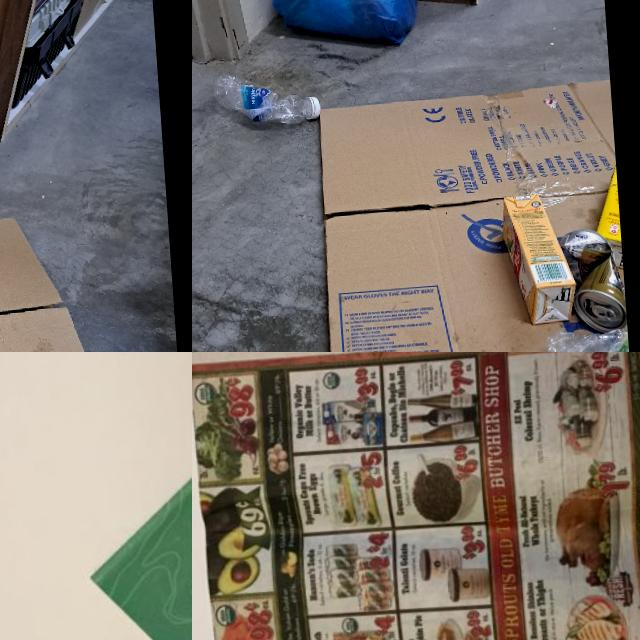aba de lata: (591, 304, 615, 323)
caixinha: (500, 190, 578, 326)
garrafa plástica: (210, 66, 312, 130), (545, 324, 632, 352)
lata: (308, 78, 637, 352), (558, 227, 626, 335)
papel: (192, 352, 640, 640), (73, 352, 192, 640)
papelão: (0, 209, 167, 352)
sacola plástica: (260, 0, 434, 53)
tampa plástica: (306, 95, 320, 118)
